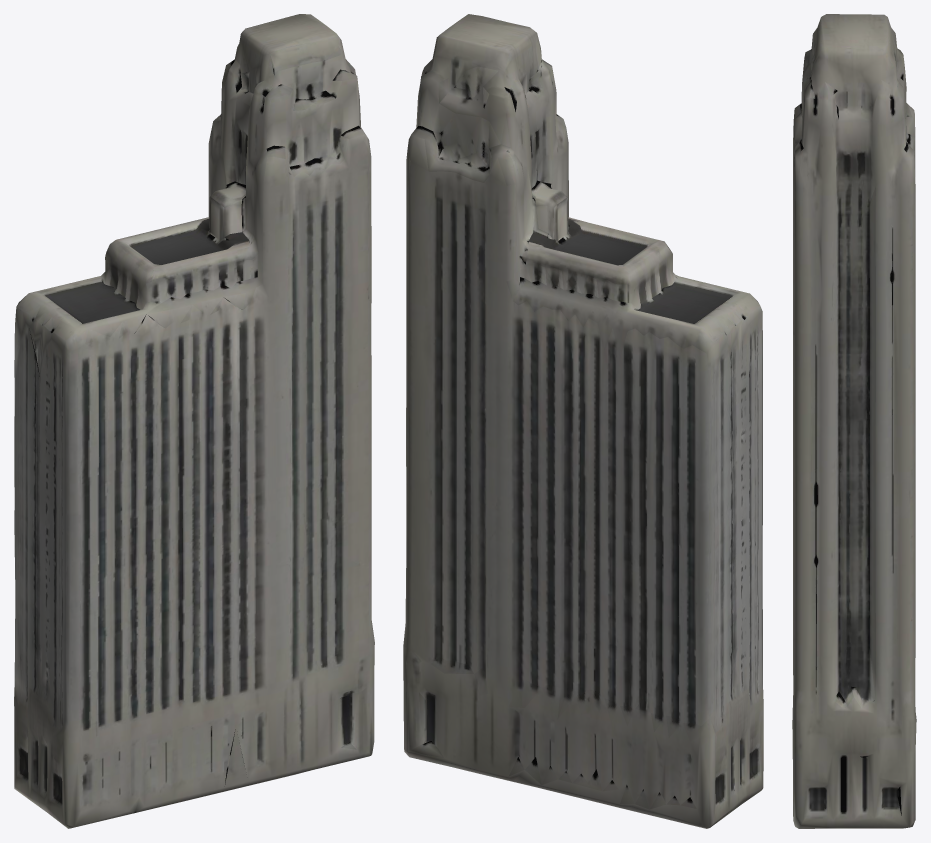
File: michigan_333_n.glb
The picture shows the model from 3 angles, left to right: view 1: azimuth 30°, elevation 25°; view 2: azimuth 150°, elevation 25°; view 3: azimuth 270°, elevation 25°; orthographic projection. The views are drawn at different scales.
Visible parts, largest first — view 1: michigan_333_n; view 2: michigan_333_n; view 3: michigan_333_n.
Boxes of the visible parts, <box> form: michigan_333_n: <box>14,14,374,828</box>; michigan_333_n: <box>403,14,763,828</box>; michigan_333_n: <box>792,14,916,828</box>.
Size of the model in its own units: 59 by 130 by 19.
Materials: 1 (1 with a texture image).
